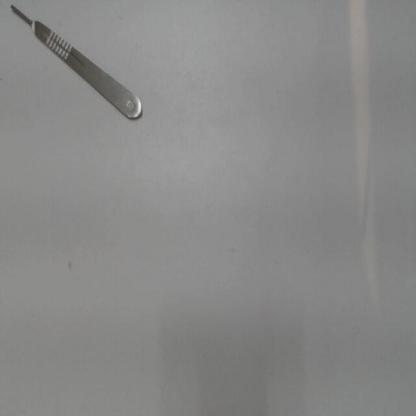No.3 BP Handle: (2, 4, 147, 134)
